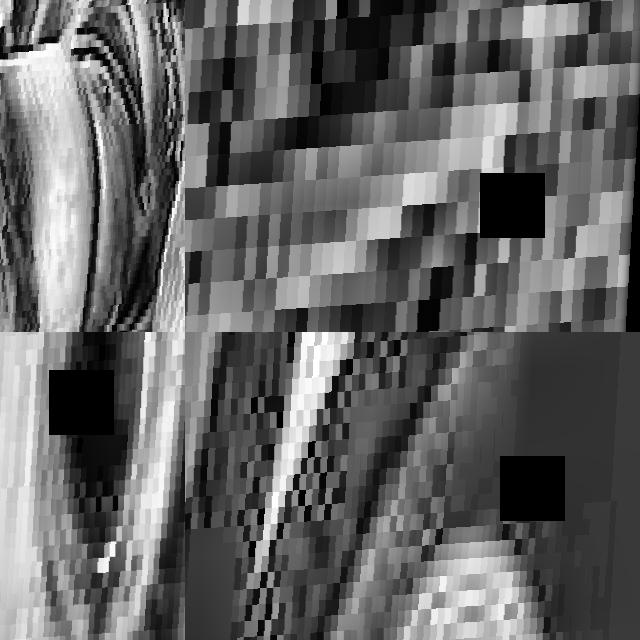crab: (185, 0, 640, 332), (185, 332, 640, 640), (0, 0, 185, 332)
fish: (0, 332, 185, 640)
